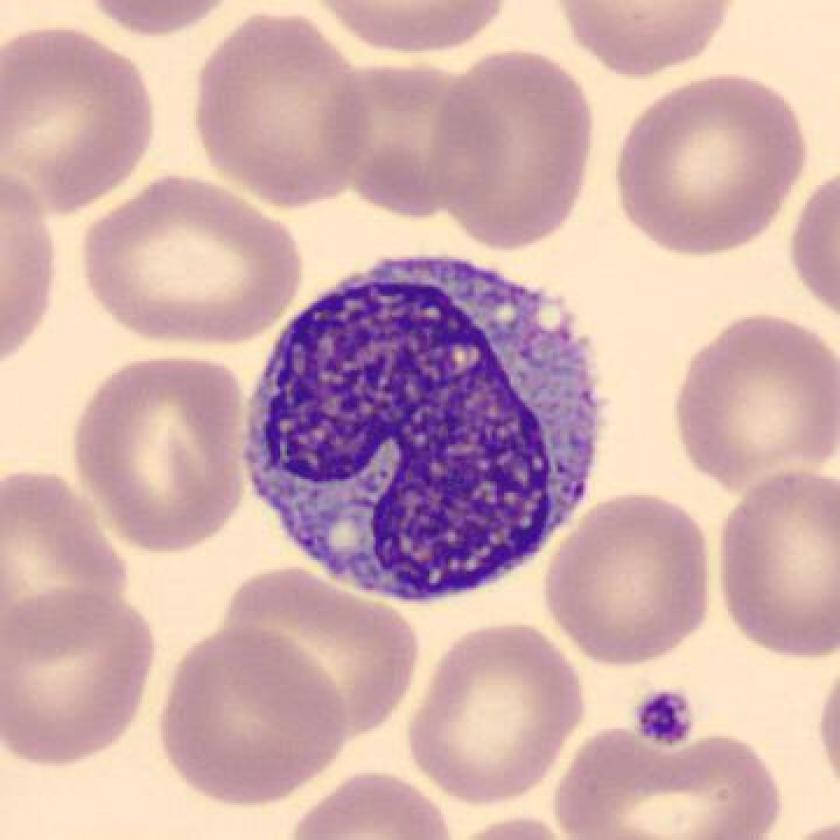monocyte: (223, 235, 622, 617)
